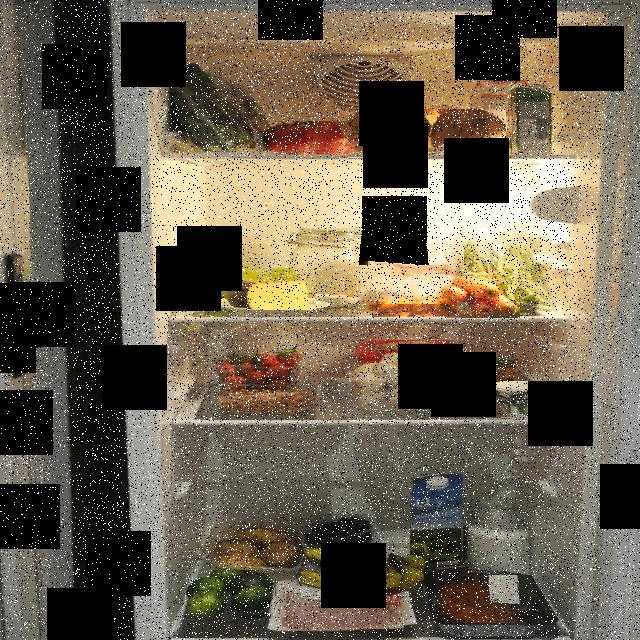apple: (202, 268, 306, 302)
banana: (302, 533, 424, 591)
beef: (432, 574, 532, 622)
blueberries: (306, 514, 374, 552)
butter: (352, 340, 452, 370)
carrot: (436, 272, 520, 318), (368, 290, 436, 314)
cheese: (226, 272, 316, 310)
corn: (469, 358, 518, 396)
flour: (287, 224, 373, 308), (366, 240, 464, 304)
goat_cheese: (486, 382, 566, 419)
green_beans: (442, 225, 552, 314)
ham: (282, 584, 408, 630)
heavy_cream: (508, 85, 554, 156)
lime: (186, 570, 276, 622)
milk: (408, 474, 468, 582)
mushrooms: (350, 353, 486, 413)
onion: (390, 100, 462, 132)
potato: (206, 514, 312, 574)
shrimp: (220, 392, 318, 414)
spinach: (158, 45, 274, 157)
strawberries: (215, 347, 296, 386)
sugar: (470, 74, 536, 154), (467, 497, 531, 575)
sweet_potato: (338, 110, 506, 160)
tomato: (258, 121, 358, 155)
